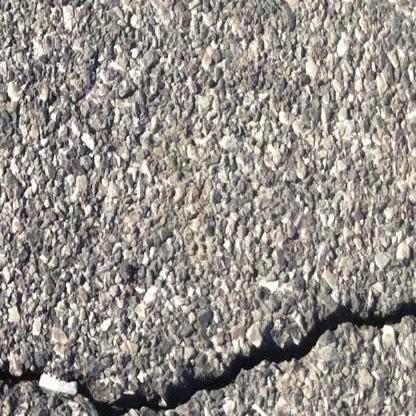Cracks: (74, 296, 416, 416), (0, 359, 48, 400)
